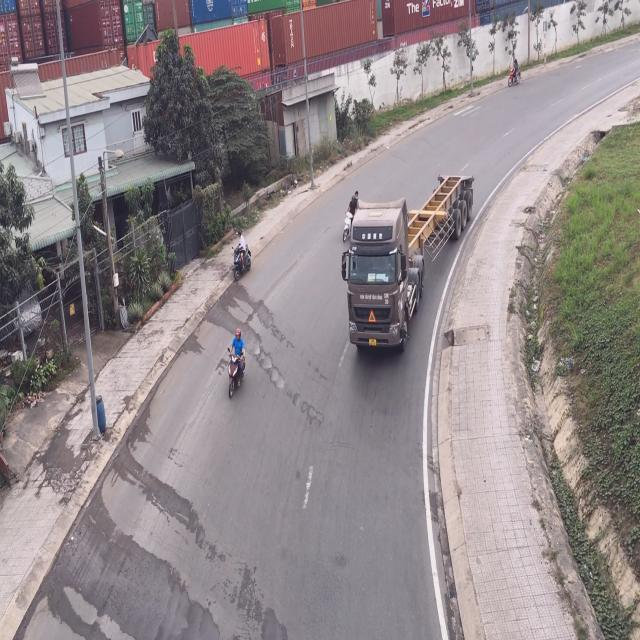motorbike: (219, 331, 247, 400), (342, 190, 360, 244), (233, 234, 253, 282), (507, 58, 521, 87)
truck: (347, 177, 478, 359)
